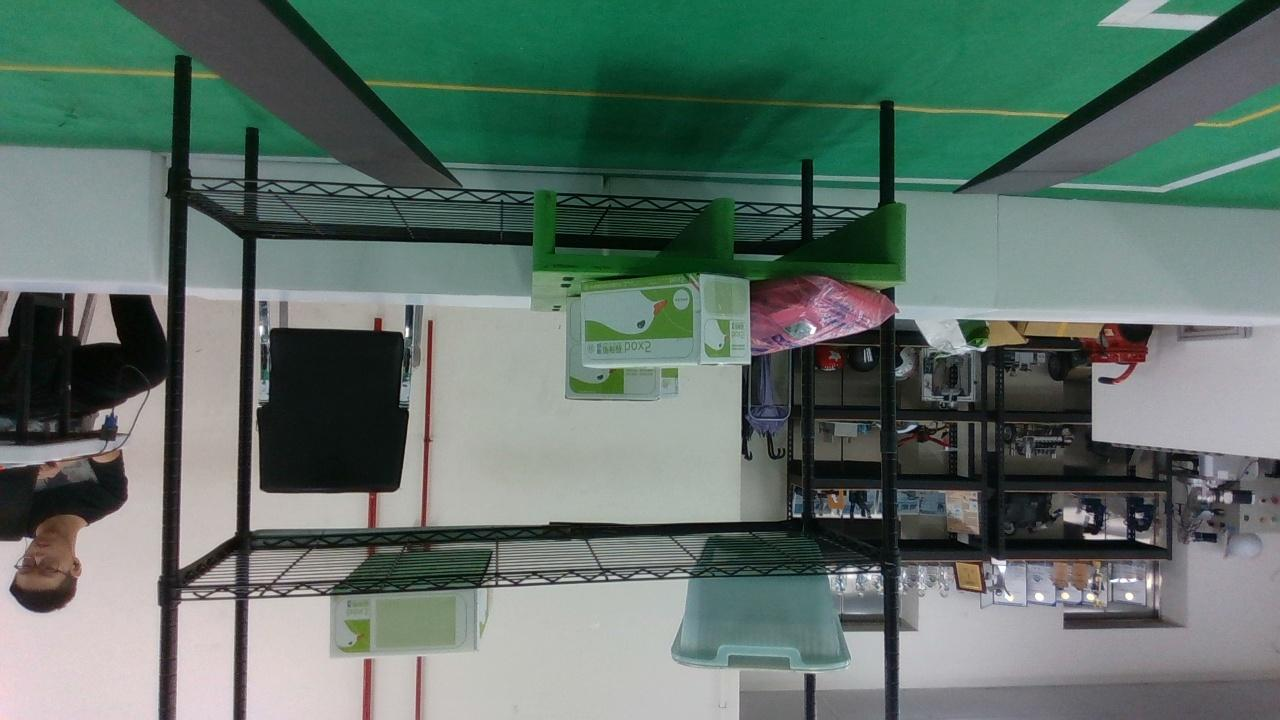Pallet: (533, 188, 907, 284)
